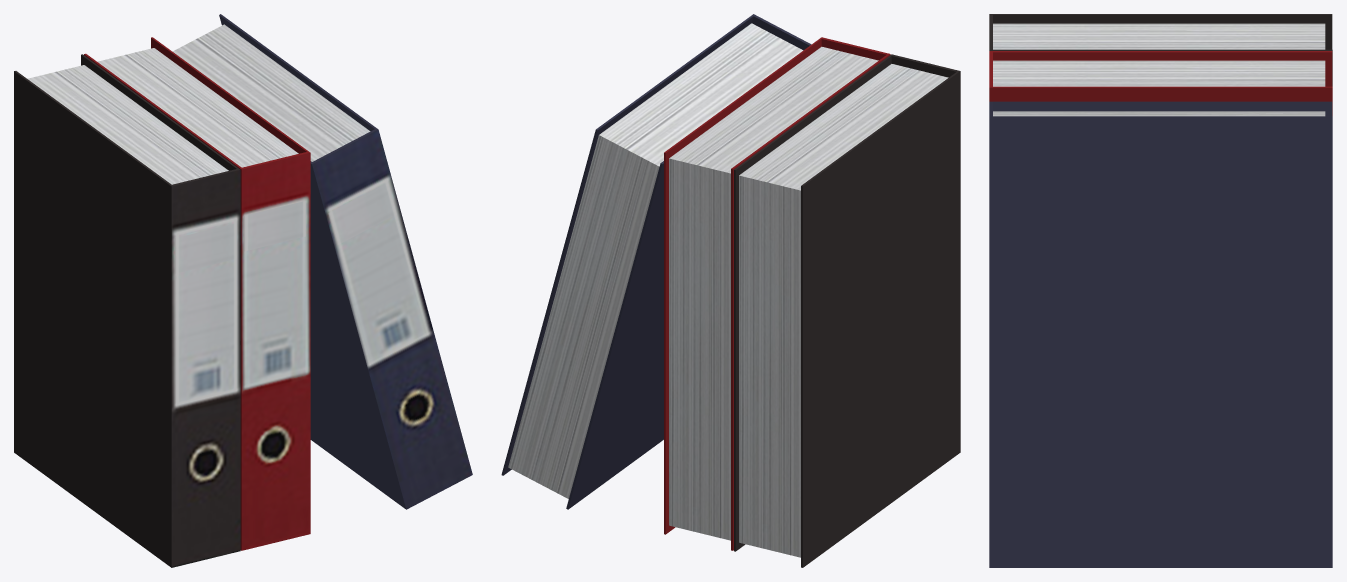
The model's file is Files 3.FBX.
3 renders of one model, left to right at view 1: azimuth 30°, elevation 25°; view 2: azimuth 150°, elevation 25°; view 3: azimuth 270°, elevation 25°, orthographic. The views are drawn at different scales.
Visible parts, largest first — view 1: File 1, File 3, File 2; view 2: File 1, File 3, File 2; view 3: File 3, File 2, File 1.
Part boxes in pixels (x1,y1,x2,y2): File 1: [14, 54, 240, 567]; File 3: [172, 14, 472, 509]; File 2: [84, 37, 310, 550]; File 1: [734, 54, 960, 567]; File 3: [501, 14, 811, 509]; File 2: [664, 37, 890, 550]; File 3: [989, 101, 1332, 567]; File 2: [989, 51, 1332, 115]; File 1: [989, 14, 1332, 86].
Size of the model in its own units: 200 by 246 by 181.
1 material, 1 textured.
